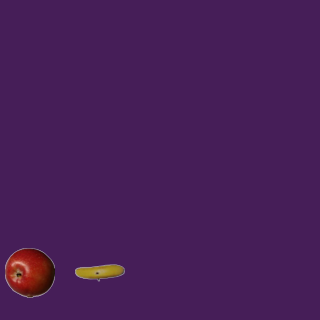Apple Braeburn: (4, 247, 54, 297)
Banana: (74, 247, 124, 297)
